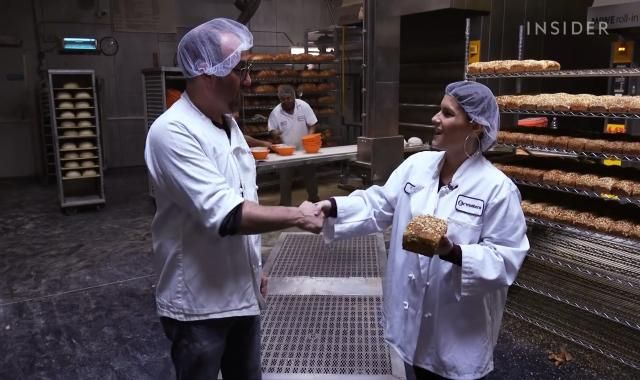hairnet: (177, 16, 255, 76), (445, 77, 499, 133), (275, 82, 296, 102)
